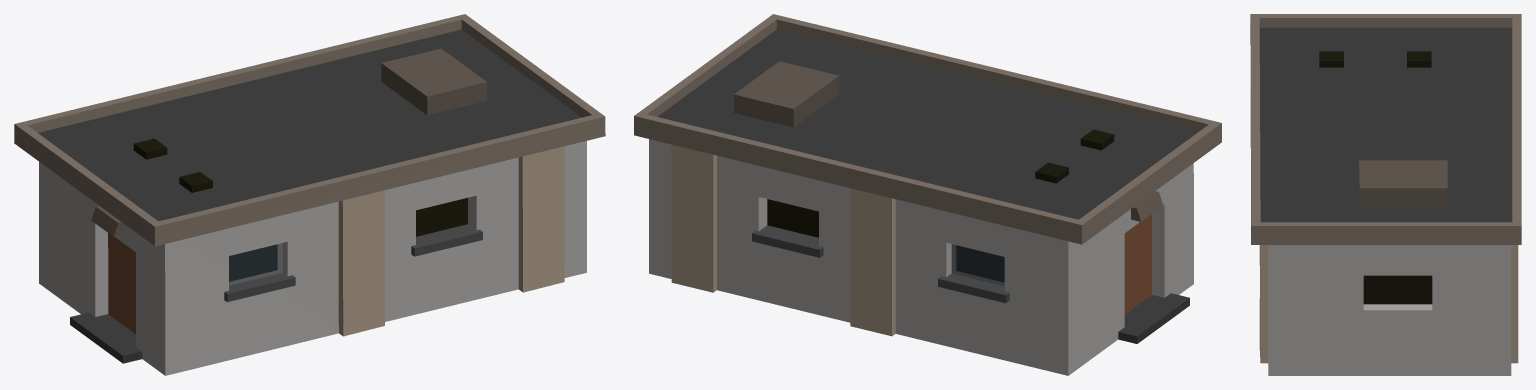
The model's file is barrack1.fbx.
3 views of the same model, side by side, from view 1: azimuth 30°, elevation 25°; view 2: azimuth 150°, elevation 25°; view 3: azimuth 270°, elevation 25° (orthographic). The views are drawn at different scales.
Parts seen in each view (by area): view 1: barrack1; view 2: barrack1; view 3: barrack1.
Part boxes in pixels (bbox=[...]): barrack1: bbox=[14, 14, 605, 375]; barrack1: bbox=[634, 14, 1221, 375]; barrack1: bbox=[1250, 14, 1521, 375].
Bounding box in the file's own units: 925 × 331 × 500.
